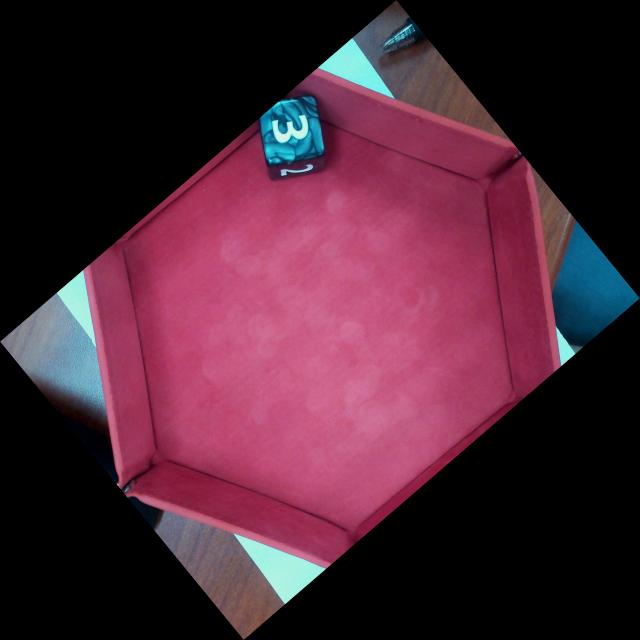dice: (257, 95, 328, 163)
